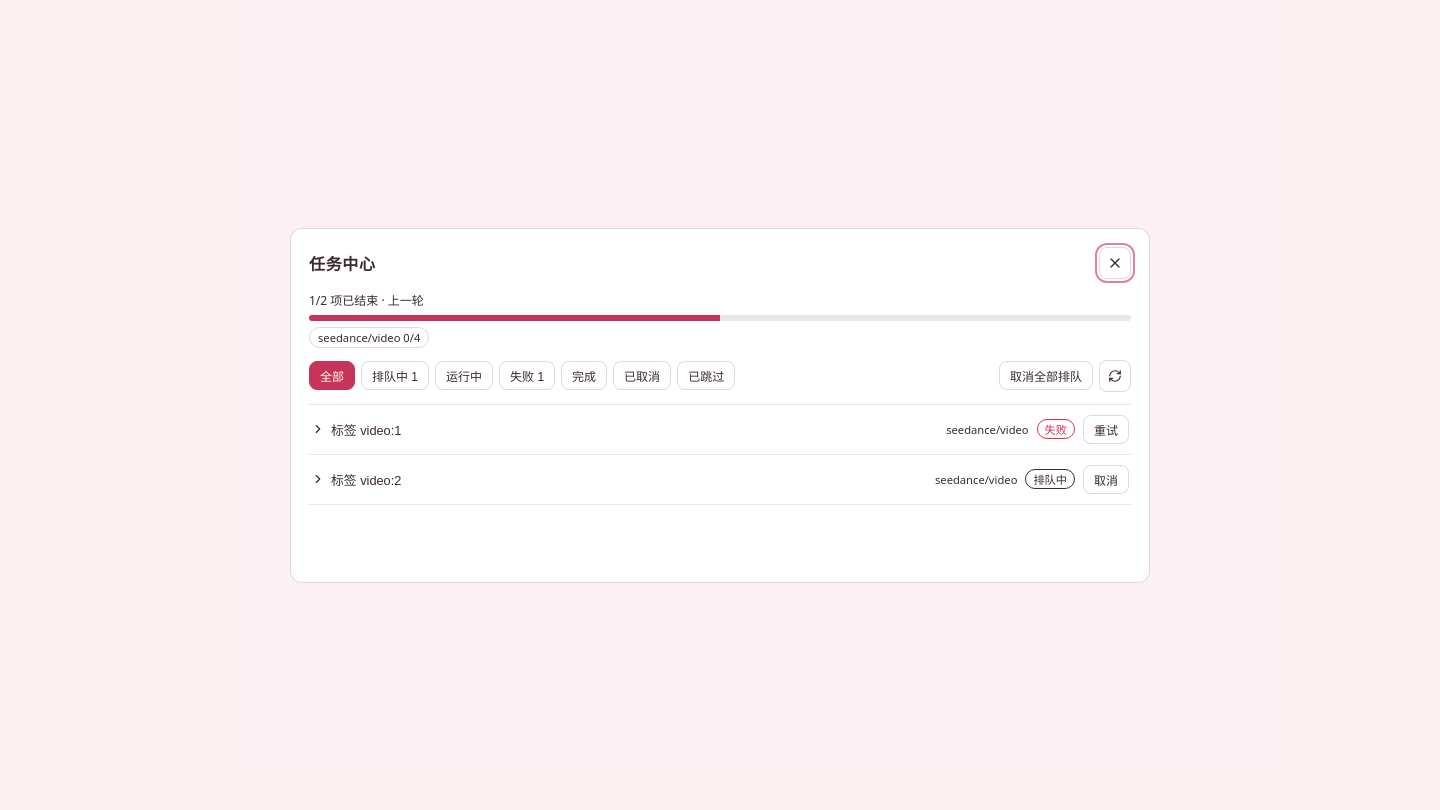
Scenario: TaskCenter › lists jobs with status, ceilings and progress, and filters by status
Check: the text "标签 video:1" is shown, box [331, 420, 401, 438]
Check: the text "seedance/video 0/4" is shown, box [309, 326, 429, 348]
Click the button "排队中 1": (395, 376) [361, 361, 429, 390]
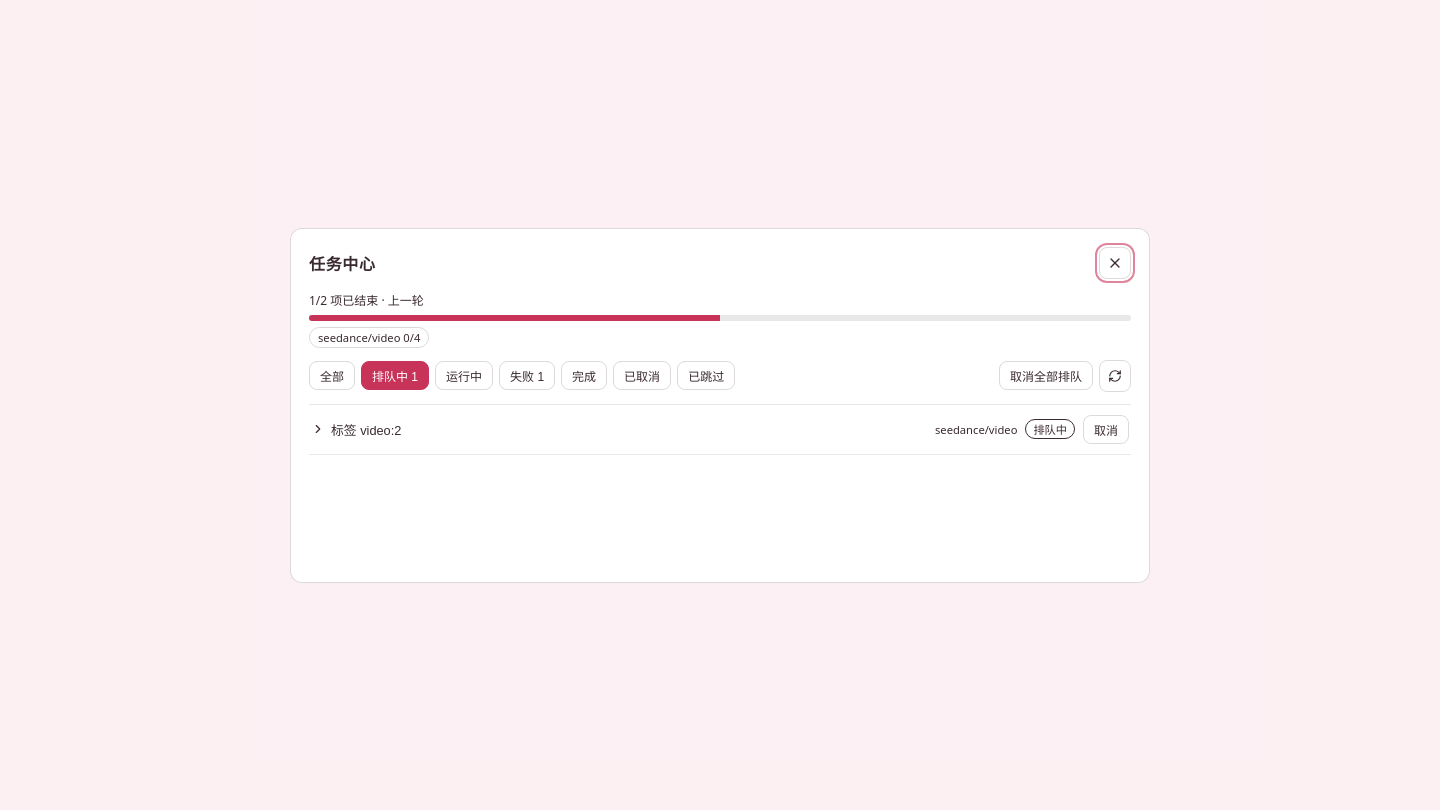
Check: the text "标签 video:2" is shown, box [331, 420, 401, 438]
Check: the button "标签 video:1" is gone
